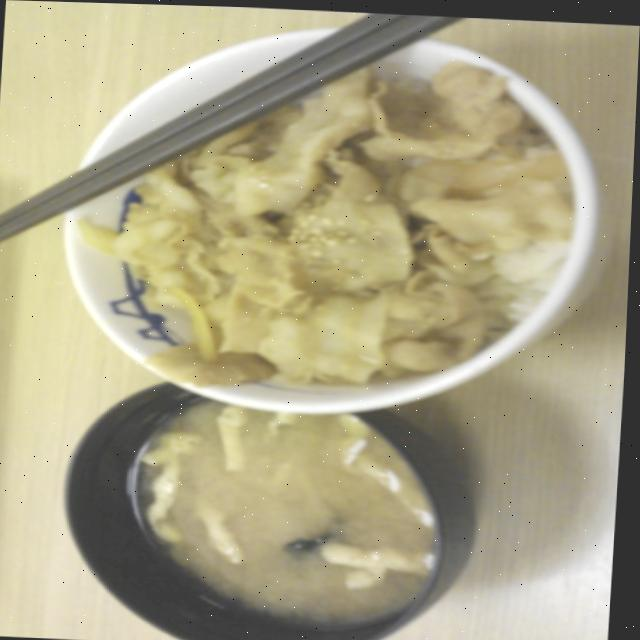汤锅炖物: (49, 367, 463, 640)
